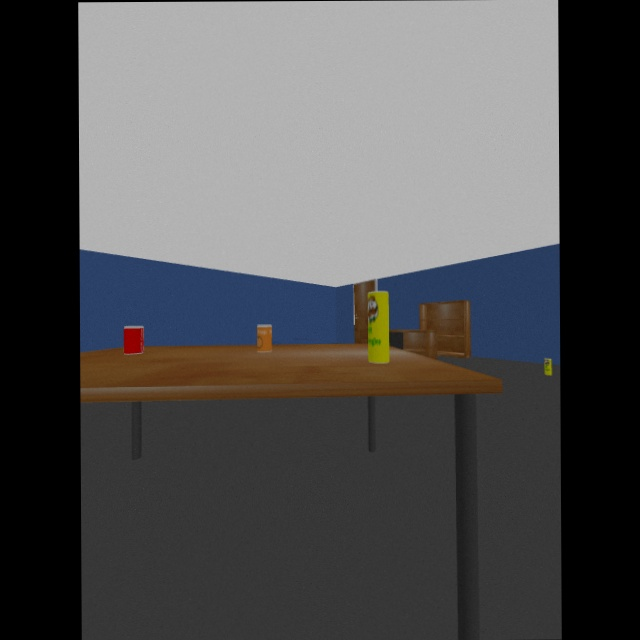chipsdose_gelb: (367, 291, 389, 364), (543, 357, 552, 375)
